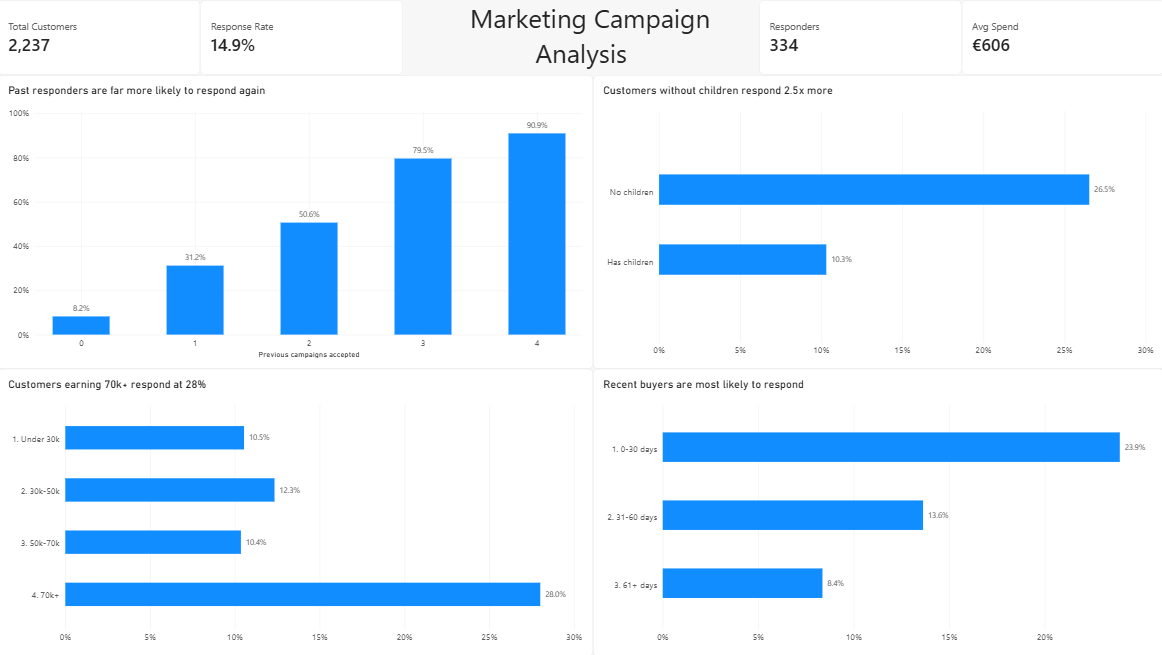

Layout of this report page (visuals, bound fields, positions):
{"tool":"powerbi","page":{"name":"Page 1","canvas":[1920,1080],"ordinal":0},"visuals":[{"type":"cardVisual","fields":{"Data":["dashboard_data.Total Customers Card"]},"box":[0,0,333.4,123.5],"z":0},{"type":"cardVisual","fields":{"Data":["dashboard_data.Response Rate"]},"box":[333.4,0,333.4,123.5],"z":1},{"type":"cardVisual","fields":{"Data":["dashboard_data.Responders"]},"box":[1253.5,0,333.4,123.5],"z":2},{"type":"cardVisual","fields":{"Data":["dashboard_data.Avg Spend Card"]},"box":[1587,0,333.4,123.5],"z":3},{"type":"clusteredColumnChart","title":"Past responders are far more likely to respond again","fields":{"Category":["dashboard_data.prev_accepted"],"Y":["dashboard_data.Response Rate"]},"box":[0,123.5,979.8,483.7],"z":4},{"type":"clusteredBarChart","title":"Customers earning 70k+ respond at 28%","fields":{"Category":["dashboard_data.income_band"],"Y":["dashboard_data.Response Rate"]},"box":[0,607.2,979.8,473.4],"z":5},{"type":"clusteredBarChart","title":"Customers without children respond 2.5x more","fields":{"Category":["dashboard_data.household"],"Y":["dashboard_data.Response Rate"]},"box":[979.8,123.5,941,484],"z":6},{"type":"clusteredBarChart","title":"Recent buyers are most likely to respond","fields":{"Category":["dashboard_data.recency_band"],"Y":["dashboard_data.Response Rate"]},"box":[979.8,607.2,940.7,473.4],"z":7},{"type":"textbox","box":[666.9,0,586.6,123.5],"z":8}]}

Visuals, with their boxes in screenshot pixels (x1, y1, x2, y2), scaled from the page's 1920x1080 canvas onto the 1162x655 screenshot:
cardVisual - dashboard_data.Total Customers Card: rect(0, 0, 202, 75)
cardVisual - dashboard_data.Response Rate: rect(202, 0, 404, 75)
cardVisual - dashboard_data.Responders: rect(759, 0, 960, 75)
cardVisual - dashboard_data.Avg Spend Card: rect(960, 0, 1161, 75)
"Past responders are far more likely to respond again" clusteredColumnChart: rect(0, 75, 593, 368)
"Customers earning 70k+ respond at 28%" clusteredBarChart: rect(0, 368, 593, 654)
"Customers without children respond 2.5x more" clusteredBarChart: rect(593, 75, 1161, 368)
"Recent buyers are most likely to respond" clusteredBarChart: rect(593, 368, 1161, 654)
textbox: rect(404, 0, 759, 75)
